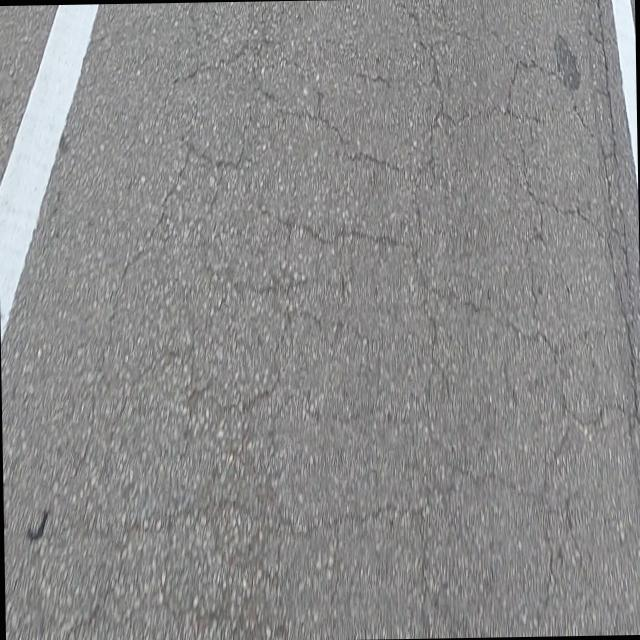Retak-Buaya: (58, 1, 640, 640)
Retak-Memanjang: (593, 0, 619, 168)
